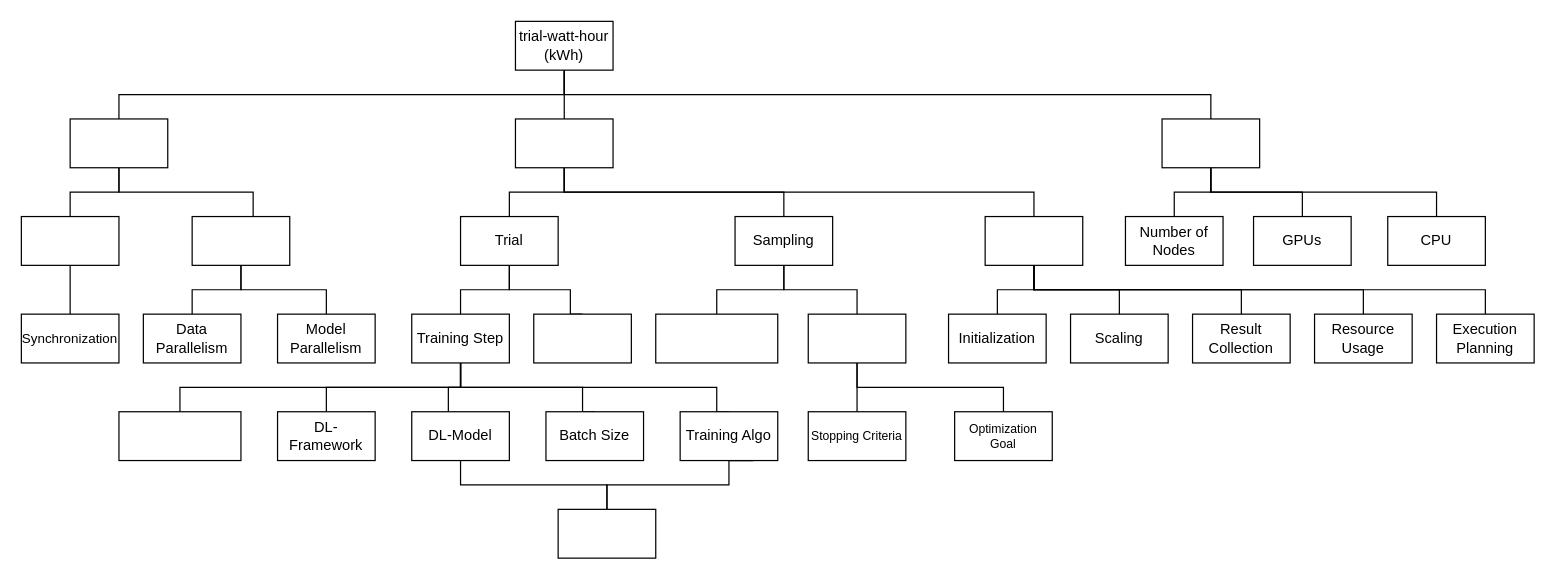
This 1556x580 diagram has some shape labels left out. Here are the shapes that lost their labels. From the top down, the box of each, then its label:
(69, 118, 168, 168): Parallelization
(514, 118, 613, 168): HPO-Process
(1161, 118, 1260, 168): Resources
(20, 215, 119, 265): Worker Parallelism
(191, 215, 290, 265): Trial Parallelism
(984, 215, 1083, 265): HPO-Tool
(533, 313, 631, 363): Pruning
(655, 313, 778, 363): Hyperparameter Space
(807, 313, 906, 363): Sampling Algorithm
(118, 411, 241, 461): Hyperparameter Config
(557, 508, 656, 558): Data
